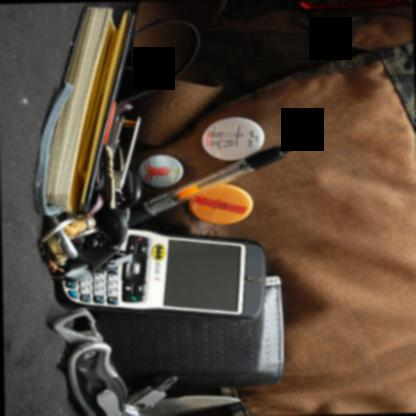backpack: (125, 0, 416, 416)
